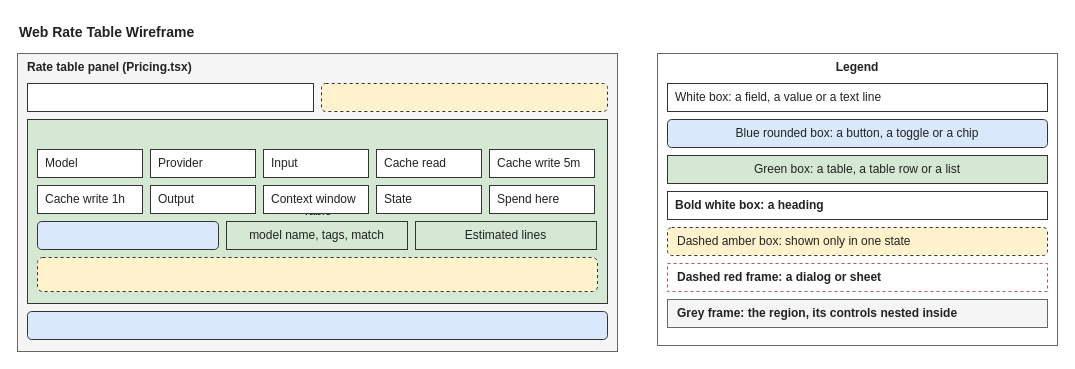
The diagram is 1075 pixels wide and 369 high, and some of its shapes have lost their labels. Each missing label, with the centre of its shape:
chevron: details: the point at 127,235
Detail row: source, bands, peak window, dated prices: the point at 317,274
Prices per million tokens, as of date: the point at 170,97
rate age badge: the point at 464,97
Show N more rates (M hidden): the point at 317,325
